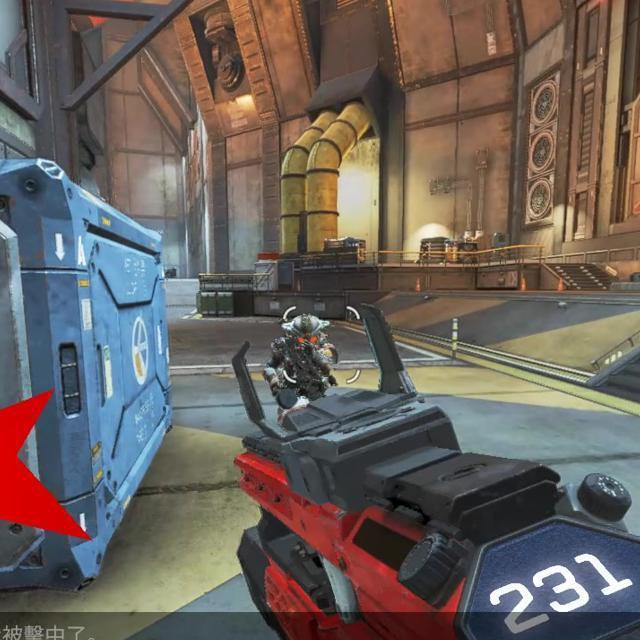avatar: (263, 310, 340, 411)
